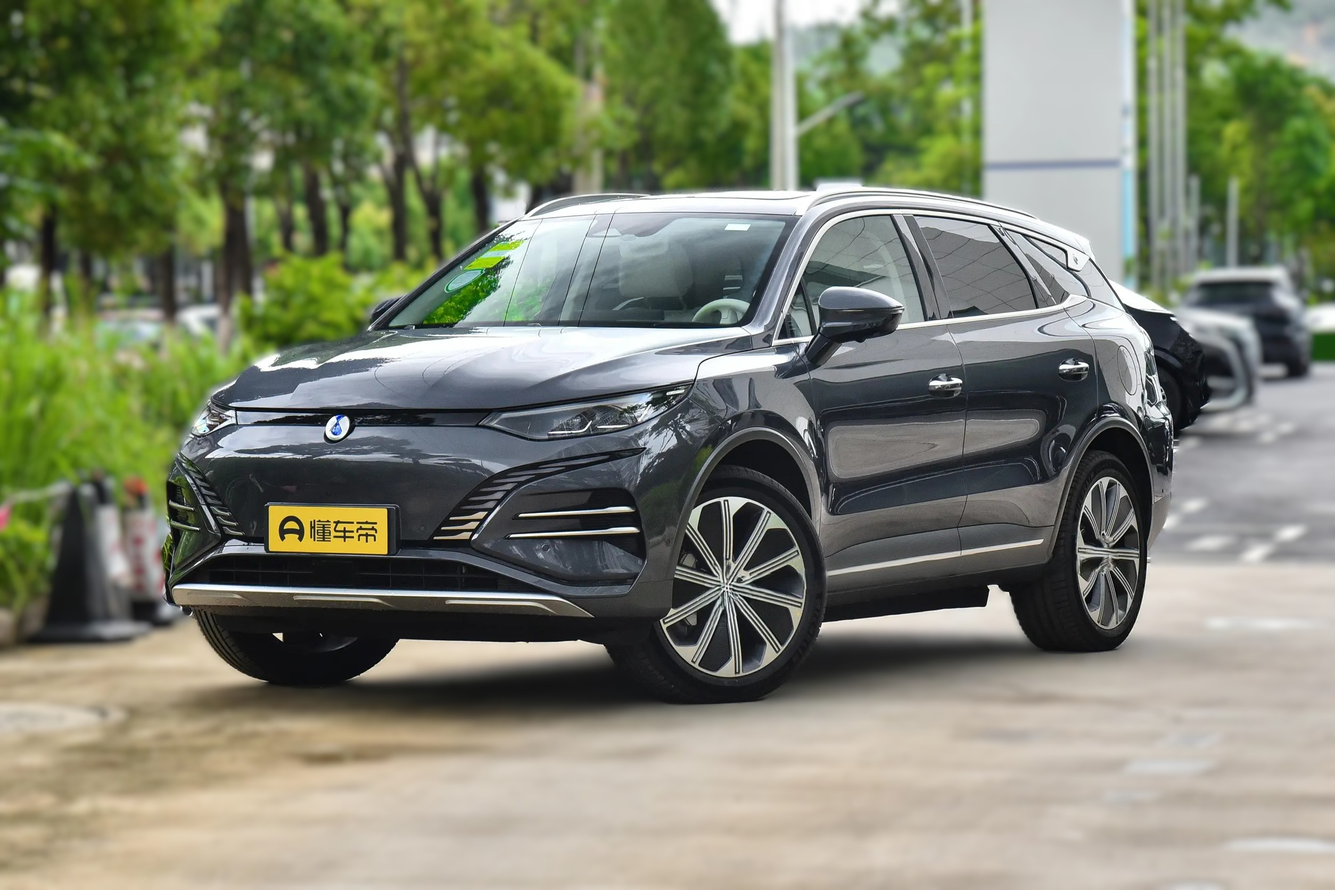DENZA: (326, 415, 349, 439)
